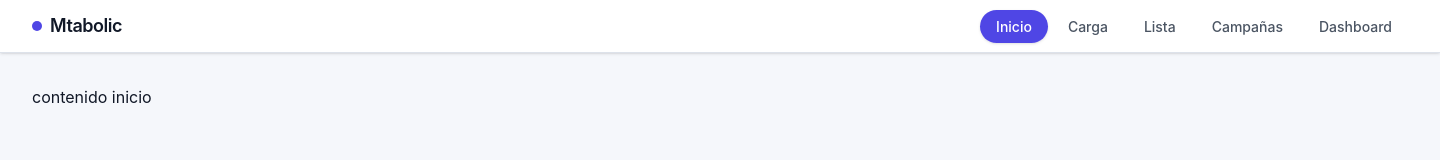
Test: AppLayout › clic en "Campañas" → la URL pasa a /campanias y el main muestra su contenido
Expected: the text "contenido inicio" is shown, [32,87,152,107]
Click the link "Campañas" at (1247, 26), box [1212,18,1283,35]
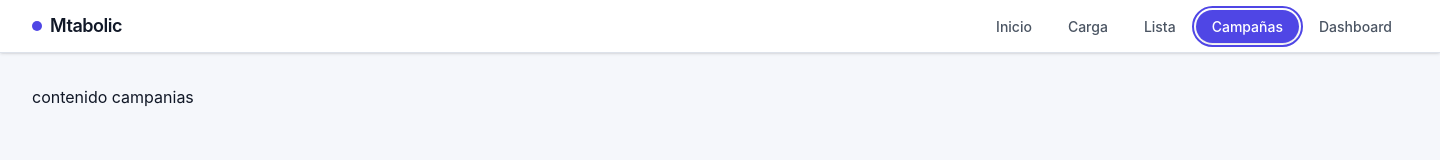
Expected: the text "contenido campanias" is shown, [32,87,194,107]
Expected: the text "contenido inicio" is gone
